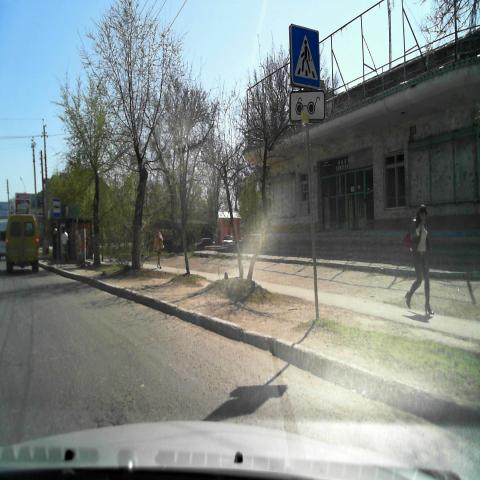8_15: (290, 91, 326, 120)
